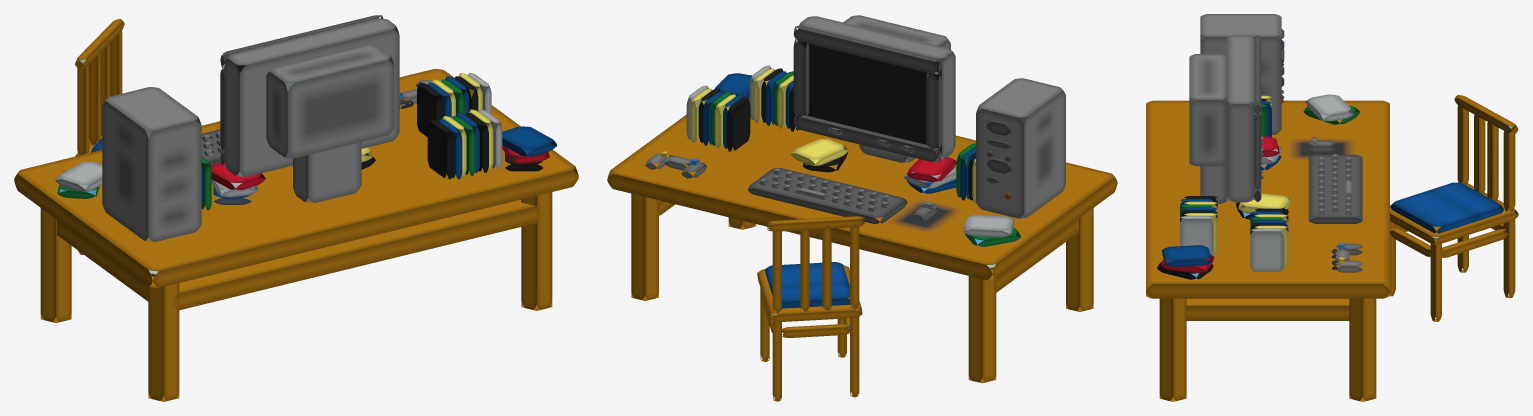
Rendered from PDDESCK.fbx.
The picture shows the model from 3 angles, left to right: view 1: azimuth 30°, elevation 25°; view 2: azimuth 150°, elevation 25°; view 3: azimuth 270°, elevation 25°; orthographic projection. The views are drawn at different scales.
Parts seen in each view (by area): view 1: cube, cube_3, cube_2, cube_92, cube_1, cylinder_3, cylinder_1, cube_4, cylinder_2, cube_94, cube_60, cube_65 (+13 smaller); view 2: cube, cube_1, cube_3, cube_5, cylinder_2, cylinder, cylinder_3, cube_7, cube_91, cube_6, cube_78, cube_8 (+25 smaller); view 3: cube, cube_1, cube_2, cube_3, cube_93, cube_91, cube_5, cylinder_1, cylinder, cube_78, cube_97, cube_61 (+18 smaller).
Boxes of the visible parts, left/top/right/bottom form: cube: left=14, top=69, right=578, bottom=287; cube_3: left=102, top=87, right=201, bottom=242; cube_2: left=266, top=44, right=394, bottom=158; cube_92: left=171, top=199, right=543, bottom=310; cube_1: left=224, top=18, right=399, bottom=176; cylinder_3: left=148, top=270, right=179, bottom=401; cylinder_1: left=521, top=192, right=552, bottom=310; cube_4: left=293, top=142, right=361, bottom=202; cylinder_2: left=40, top=208, right=71, bottom=322; cube_94: left=57, top=220, right=148, bottom=301; cube_60: left=427, top=119, right=453, bottom=179; cube_65: left=502, top=126, right=557, bottom=156; cube: left=607, top=114, right=1117, bottom=280; cube_1: left=797, top=16, right=955, bottom=159; cube_3: left=976, top=78, right=1065, bottom=218; cube_5: left=747, top=168, right=907, bottom=223; cylinder_2: left=968, top=264, right=996, bottom=383; cylinder: left=631, top=193, right=658, bottom=300; cylinder_3: left=1066, top=208, right=1093, bottom=311; cube_7: left=793, top=26, right=941, bottom=74; cube_91: left=765, top=262, right=850, bottom=308; cube_6: left=793, top=114, right=941, bottom=162; cube_78: left=757, top=265, right=862, bottom=322; cube_8: left=793, top=39, right=809, bottom=117; cube: left=1146, top=100, right=1389, bottom=298; cube_1: left=1227, top=35, right=1254, bottom=202; cube_2: left=1189, top=54, right=1227, bottom=166; cube_3: left=1200, top=14, right=1281, bottom=134; cube_93: left=1186, top=298, right=1349, bottom=320; cube_91: left=1390, top=182, right=1503, bottom=233; cube_5: left=1308, top=154, right=1362, bottom=223; cylinder_1: left=1159, top=298, right=1186, bottom=401; cylinder: left=1349, top=298, right=1376, bottom=401; cube_78: left=1390, top=183, right=1518, bottom=244; cube_97: left=1250, top=228, right=1284, bottom=271; cube_61: left=1180, top=216, right=1213, bottom=255.
Bounding box in the file's own units: 100 × 62.5 × 86.02.
Materials: 1 (1 with a texture image).
